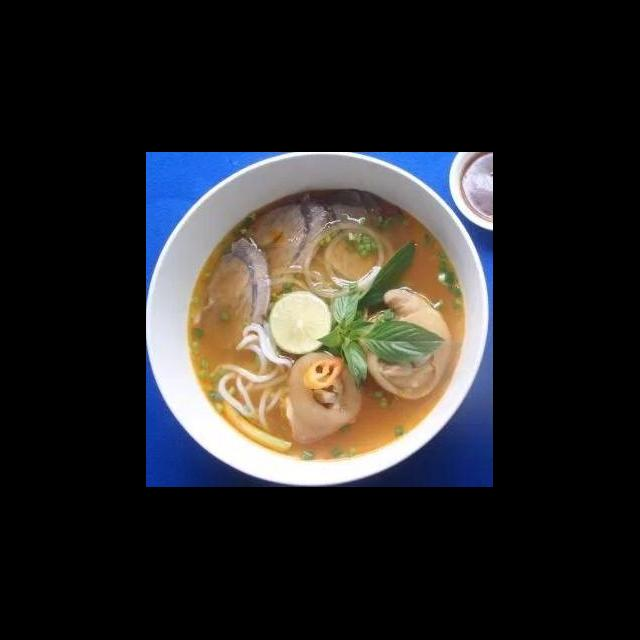bun: (208, 321, 300, 432)
bun bo: (167, 171, 484, 468)
thit bo: (240, 188, 332, 298), (202, 232, 280, 354), (294, 188, 384, 252)
